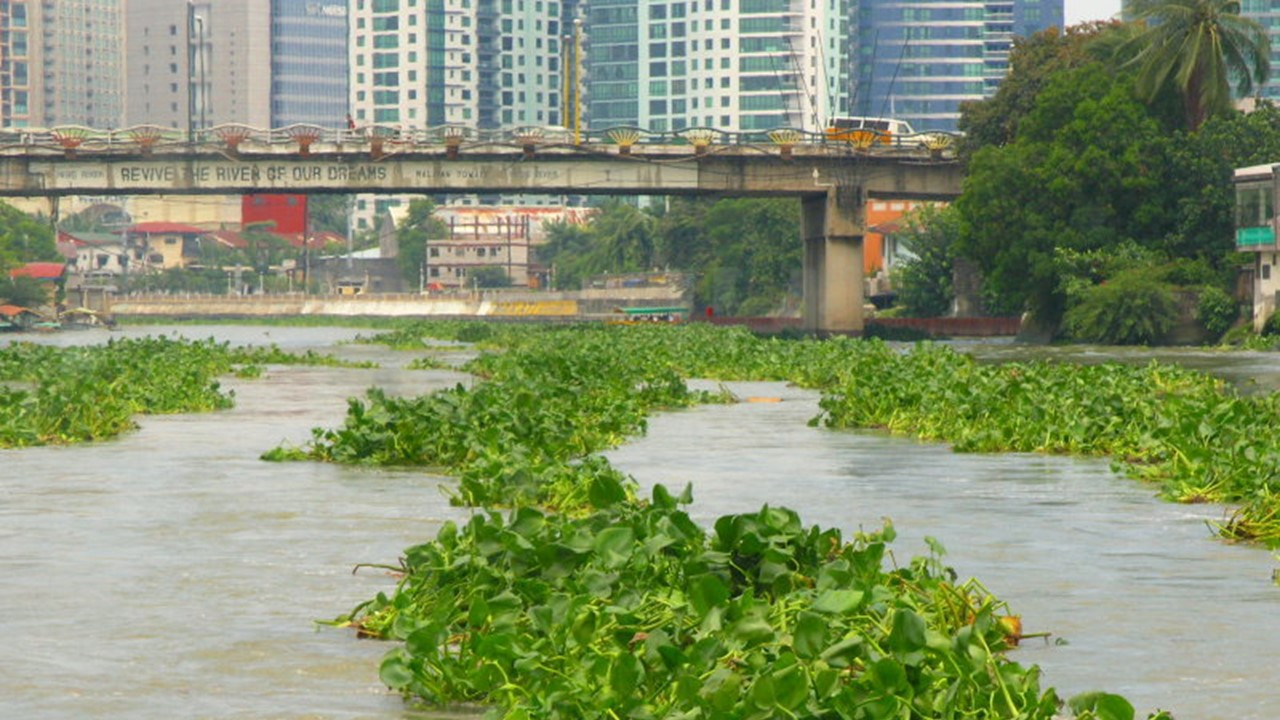water_hyacinth: (334, 442, 1195, 720)
